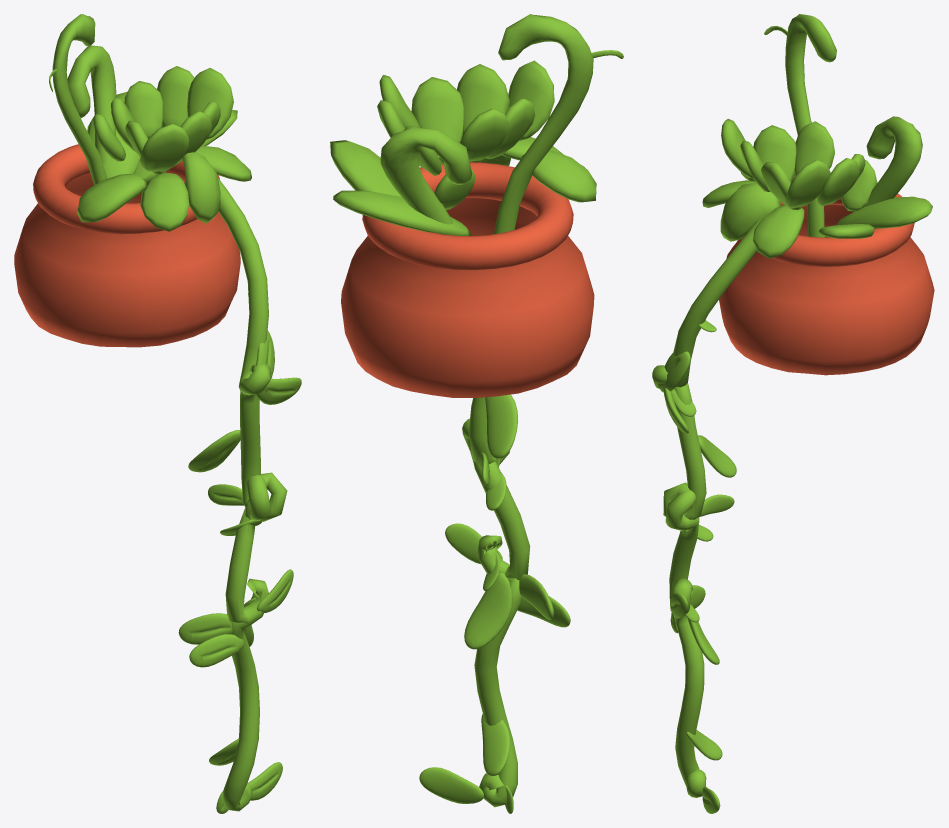
Rendered from Farmhouse_ROOM_flowerpot03_v01.glb.
The picture shows the model from 3 angles, left to right: view 1: azimuth 30°, elevation 25°; view 2: azimuth 150°, elevation 25°; view 3: azimuth 270°, elevation 25°; orthographic projection. The views are drawn at different scales.
Visible parts, largest first — view 1: Farmhouse_ROOM_flowerpot03_v01; view 2: Farmhouse_ROOM_flowerpot03_v01; view 3: Farmhouse_ROOM_flowerpot03_v01.
Boxes of the visible parts, x1,y1,x2,y2 form: Farmhouse_ROOM_flowerpot03_v01: (14,14,301,813); Farmhouse_ROOM_flowerpot03_v01: (330,14,623,813); Farmhouse_ROOM_flowerpot03_v01: (652,14,934,813).
Size of the model in its own units: 0.6126 by 2.03 by 0.7022.
